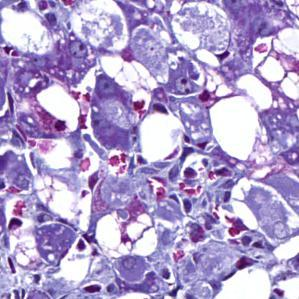ballooning: (97, 52, 160, 114), (31, 173, 96, 232), (91, 209, 160, 262)
